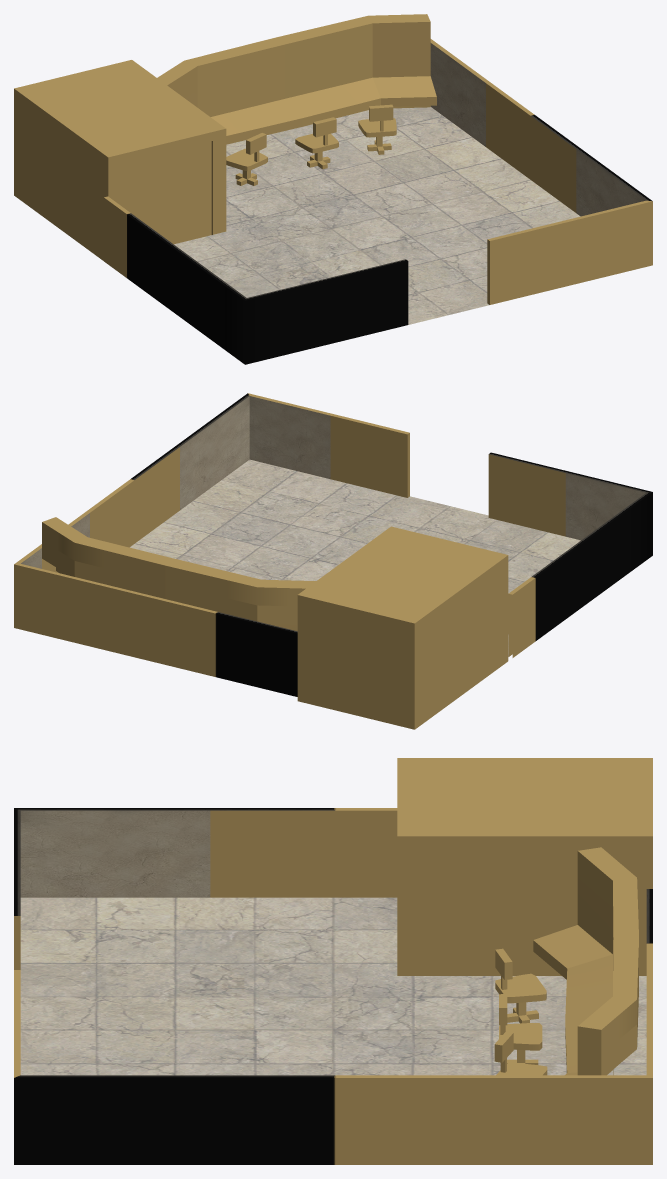
The model's file is Room_GuardRoom.fbx.
3 views of the same model, one above another, from view 1: azimuth 30°, elevation 25°; view 2: azimuth 150°, elevation 25°; view 3: azimuth 270°, elevation 25° (orthographic). The views are drawn at different scales.
Parts seen in each view (by area): view 1: polySurface14, polySurface15, polySurface13, ElevatorDoor, polySurface19; view 2: polySurface14, polySurface15, polySurface13; view 3: polySurface14, polySurface15, polySurface13, polySurface19.
Boxes of the visible parts, left/top/right/bottom form: polySurface14: left=104, top=39, right=652, bottom=364; polySurface15: left=14, top=60, right=226, bottom=260; polySurface13: left=157, top=14, right=436, bottom=144; ElevatorDoor: left=125, top=141, right=211, bottom=244; polySurface19: left=226, top=104, right=396, bottom=185; polySurface14: left=14, top=393, right=652, bottom=696; polySurface15: left=297, top=526, right=508, bottom=729; polySurface13: left=42, top=517, right=315, bottom=631; polySurface14: left=14, top=808, right=652, bottom=1164; polySurface15: left=397, top=758, right=652, bottom=975; polySurface13: left=533, top=847, right=638, bottom=1075; polySurface19: left=494, top=948, right=547, bottom=1075.
Size of the model in its own units: 10 by 2.53 by 10.
